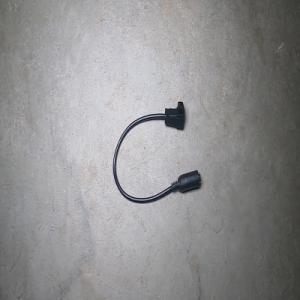Wire: (112, 101, 201, 204)
